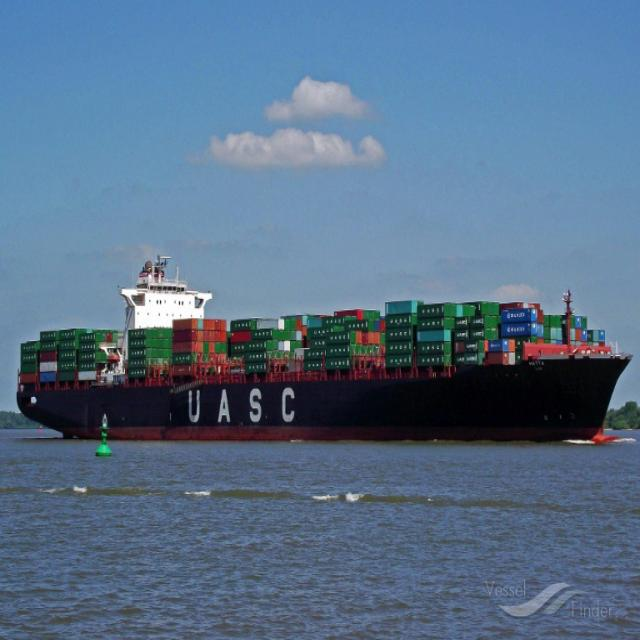Container Ship: (19, 255, 623, 443)
